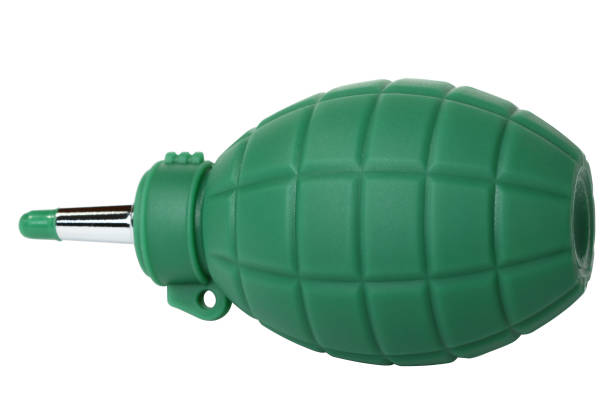e1: (20, 77, 596, 366)
